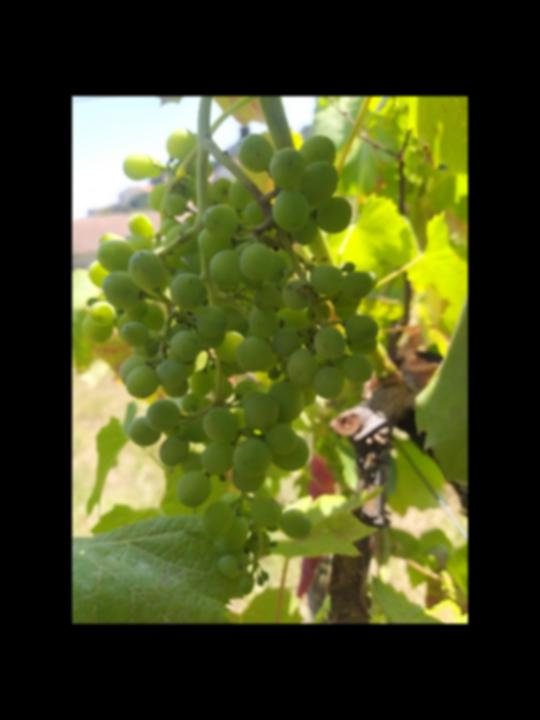grape: (79, 126, 381, 595)
